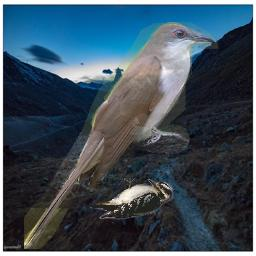Cuckoo: (24, 22, 218, 249)
Woodpecker: (85, 178, 178, 221)
